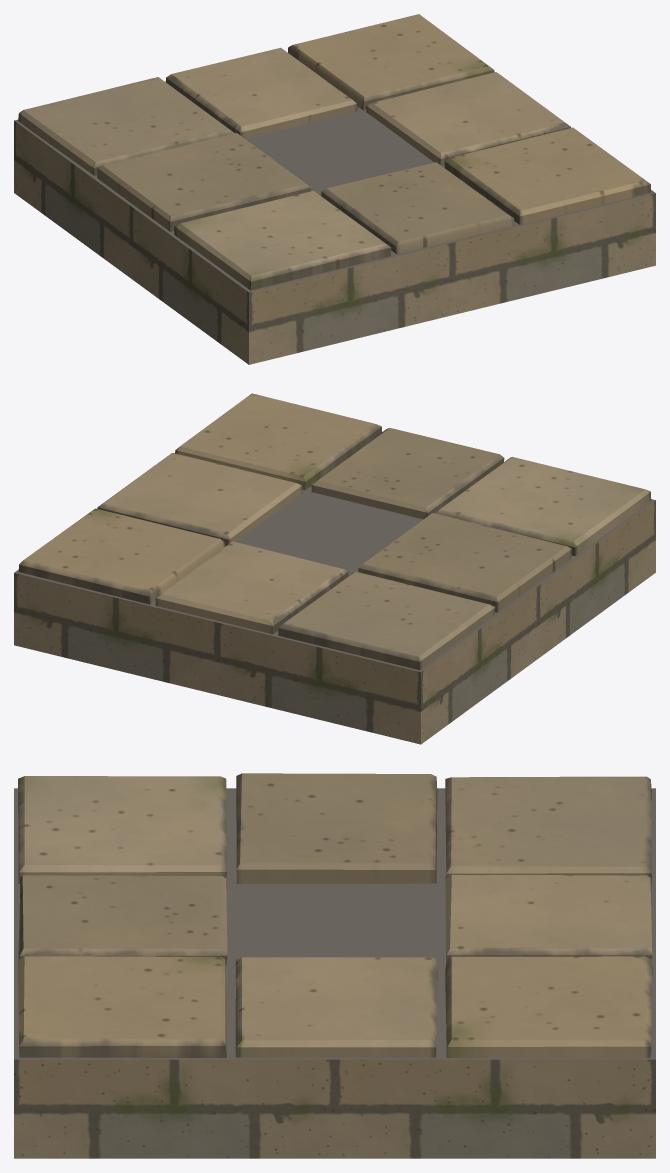
Rendered from Stone_Platform_2m.glb.
3 renders of one model, top to bottom at view 1: azimuth 30°, elevation 25°; view 2: azimuth 150°, elevation 25°; view 3: azimuth 270°, elevation 25°, orthographic. The views are drawn at different scales.
Visible parts, largest first — view 1: Stone_Platform_2m; view 2: Stone_Platform_2m; view 3: Stone_Platform_2m.
Part boxes in pixels (x1=…): Stone_Platform_2m: x1=14, y1=14, x2=655, y2=364; Stone_Platform_2m: x1=14, y1=393, x2=655, y2=744; Stone_Platform_2m: x1=14, y1=773, x2=655, y2=1158.
Bounding box in the file's own units: 2 × 0.4044 × 2.
Materials: 2 (1 with a texture image).
